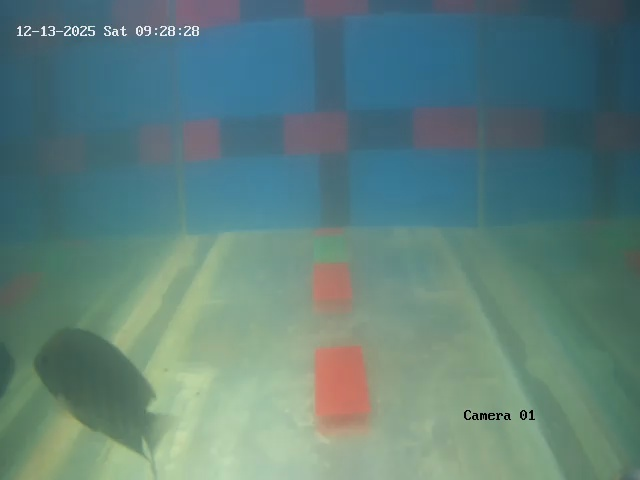fish: (32, 320, 156, 451)
